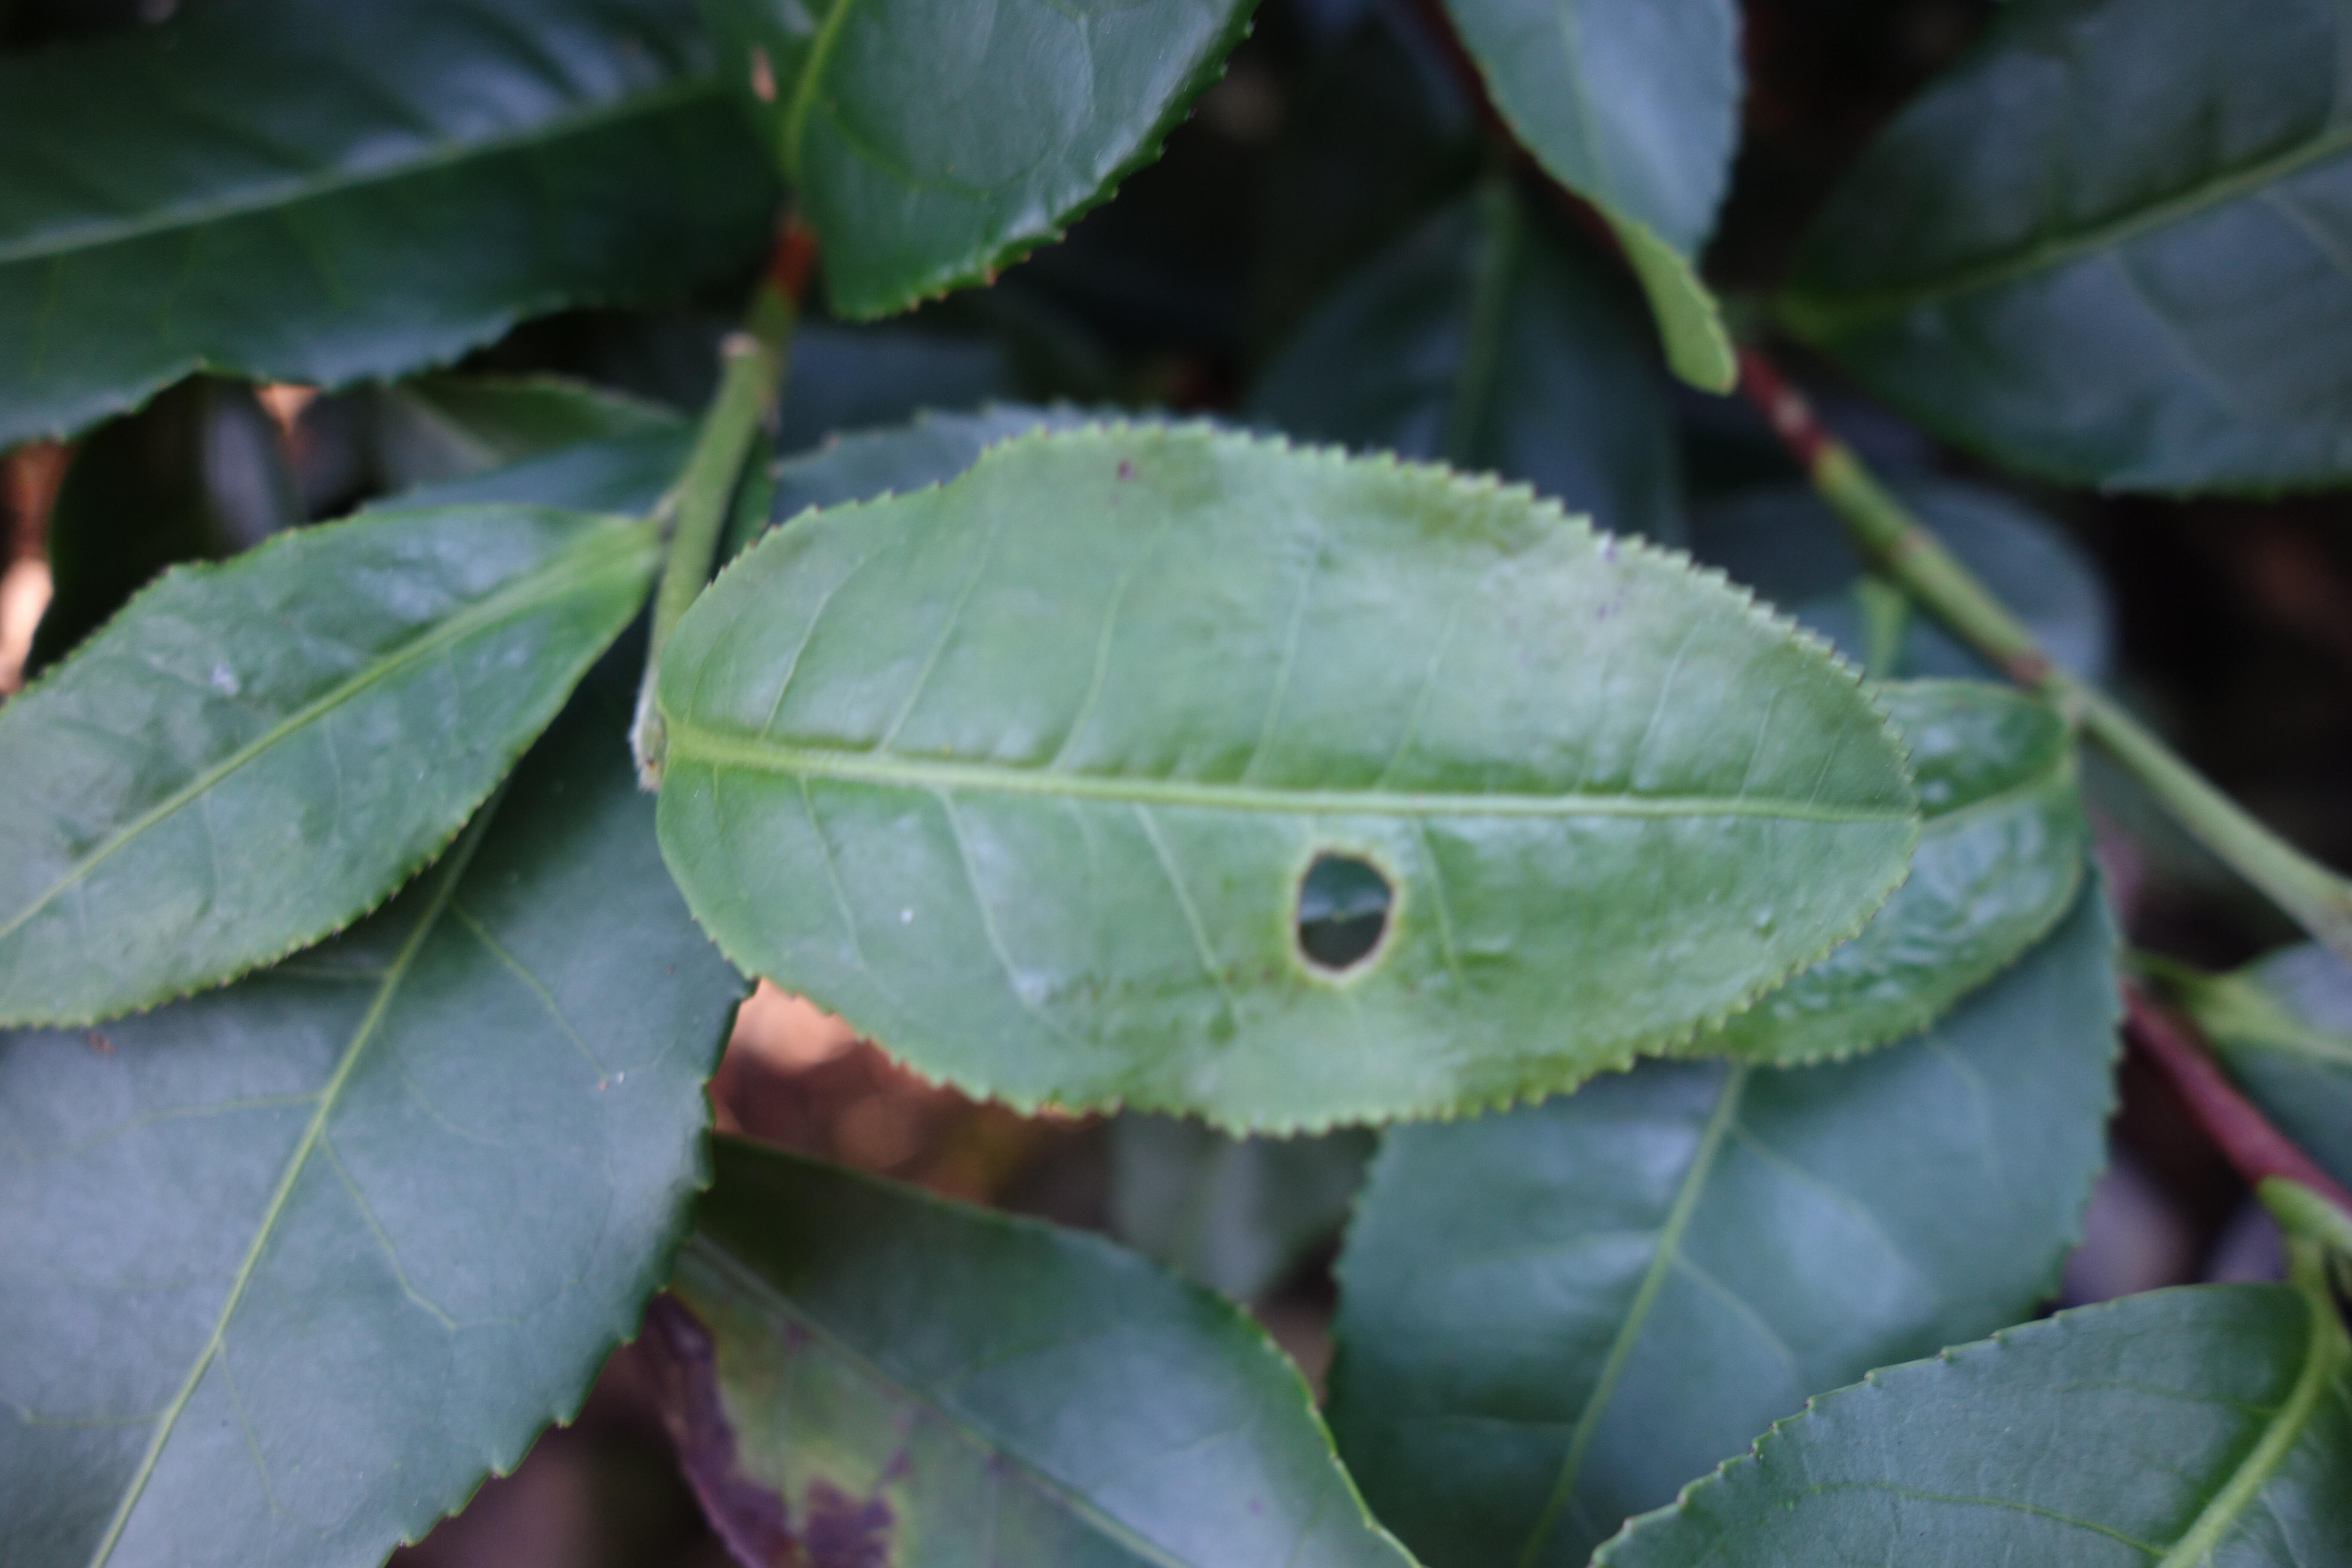chihuo_low: (651, 420, 1921, 1146)
healthy: (3, 828, 752, 1563), (2, 500, 663, 1036)
tanju_high: (651, 1143, 1419, 1561)
